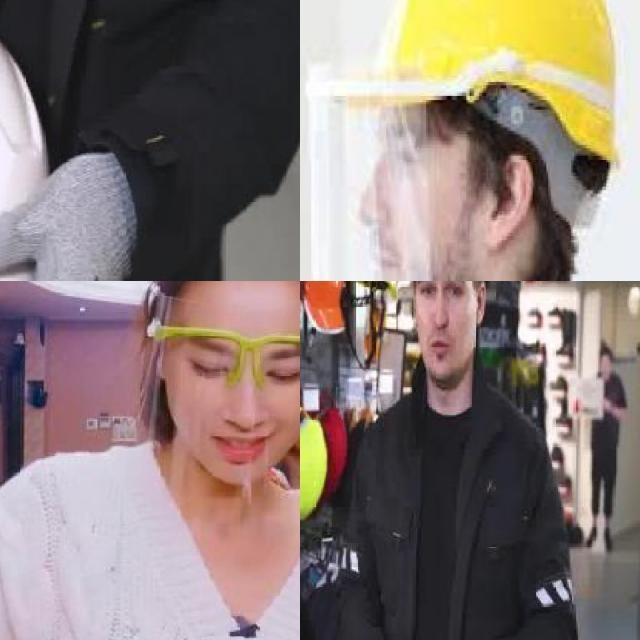apron: (0, 145, 143, 281)
